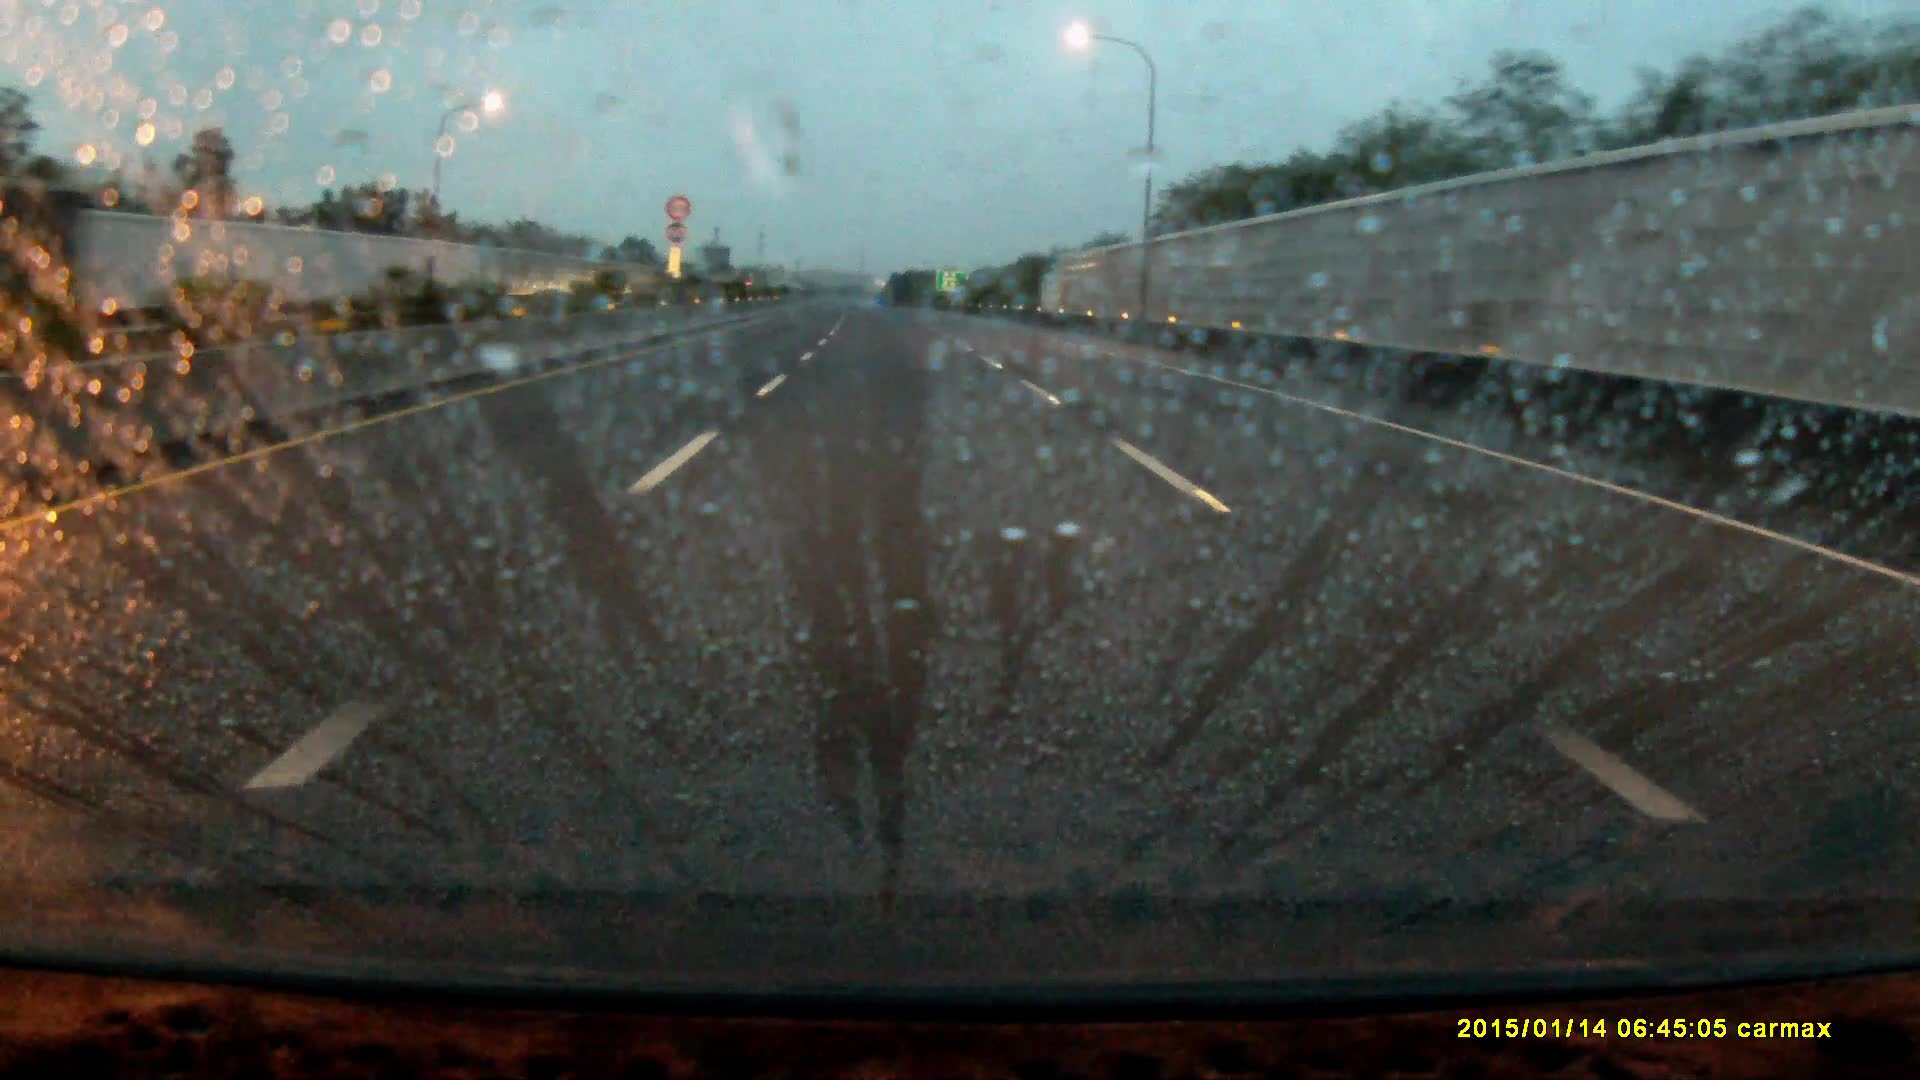vehicle: (1, 198, 80, 338)
